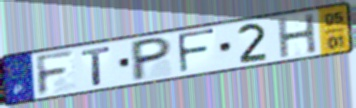2: (236, 22, 269, 65)
F: (33, 48, 77, 98), (175, 27, 217, 75)
H: (275, 11, 320, 60)
P: (130, 35, 174, 84)
T: (79, 44, 114, 87)
